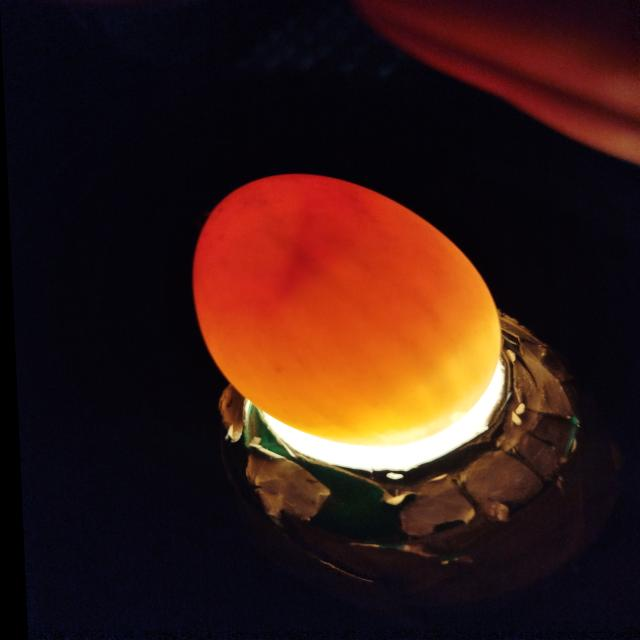Gema Quebrada: (190, 174, 460, 352)
